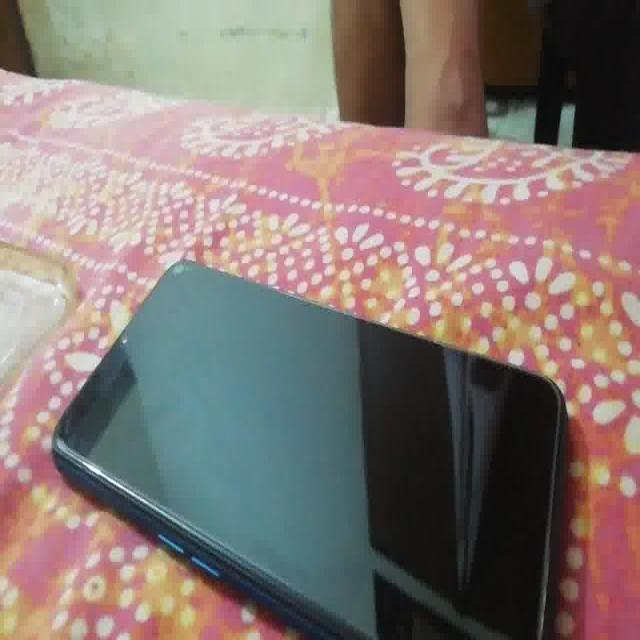phone: (49, 243, 570, 640)
